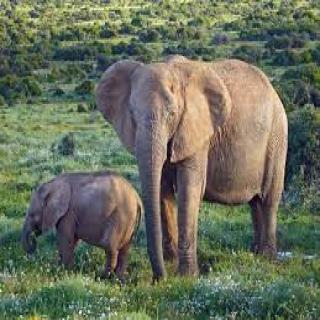Elephant: (94, 52, 290, 284), (19, 167, 144, 282)
